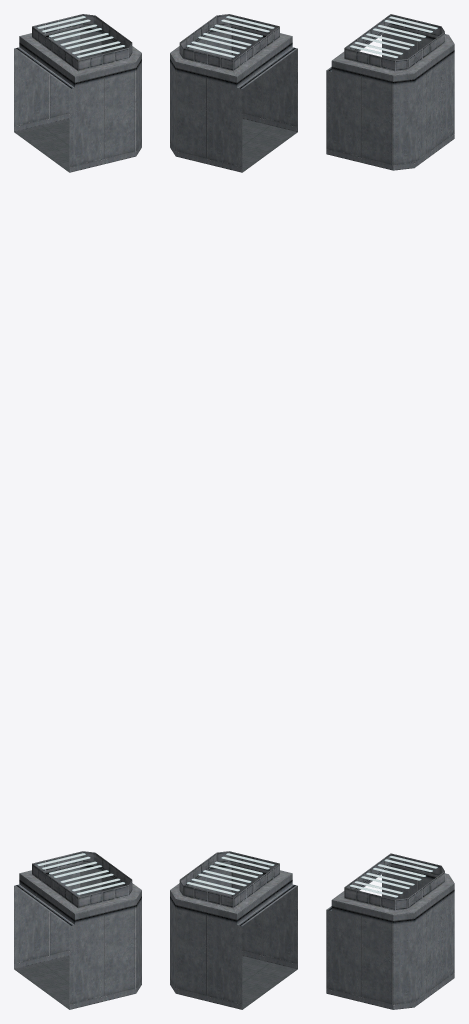
The model's file is poi_all_impl_bunker_small_outpost_s01_r36_elevator2_mesh.fbx.
3 renders of one model, left to right at view 1: azimuth 30°, elevation 25°; view 2: azimuth 150°, elevation 25°; view 3: azimuth 330°, elevation 25°, orthographic.
Parts seen in each view (by area): view 1: mesh_node; view 2: mesh_node; view 3: mesh_node.
Part boxes in pixels (bbox=[...]): mesh_node: bbox=[14, 14, 141, 1009]; mesh_node: bbox=[170, 14, 297, 1009]; mesh_node: bbox=[326, 14, 454, 1009].
Size of the model in its own units: 3 by 33.8 by 3.6.
